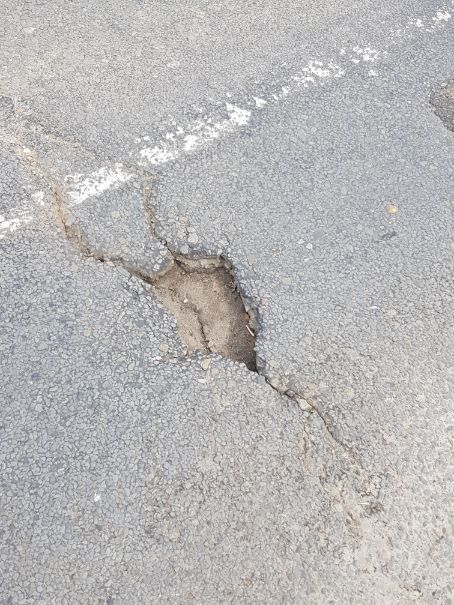pothole: (127, 235, 282, 375)
